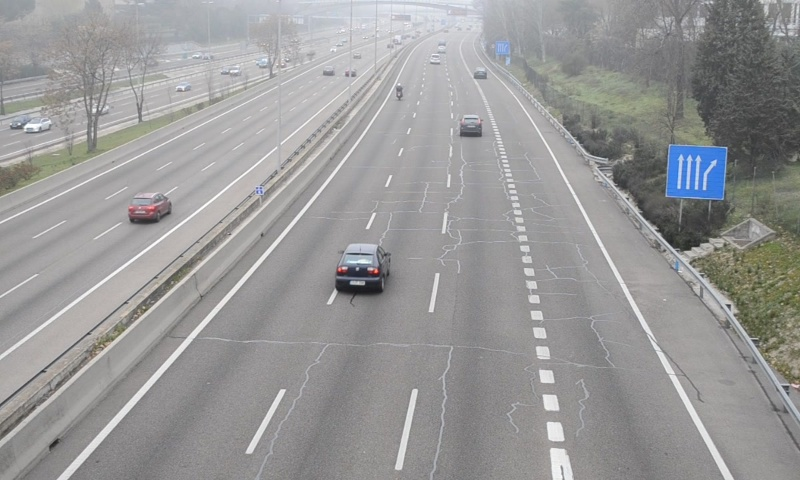car: (337, 241, 390, 293), (458, 114, 483, 138), (473, 67, 486, 79)
motorcycle: (394, 83, 402, 103)
